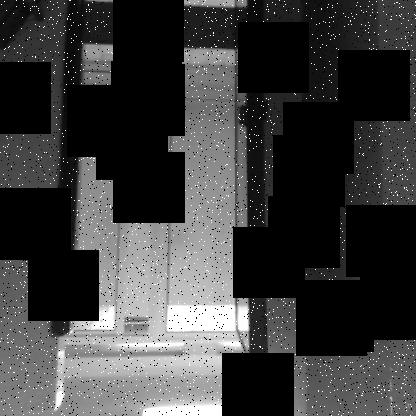Porte: (50, 1, 270, 372)
